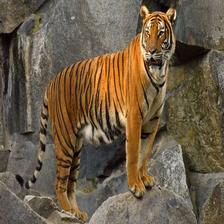tiger: (42, 6, 184, 219)
